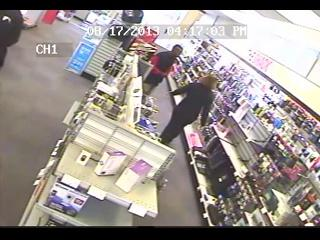Normal: (158, 75, 220, 145), (142, 45, 184, 97), (0, 11, 24, 68)
